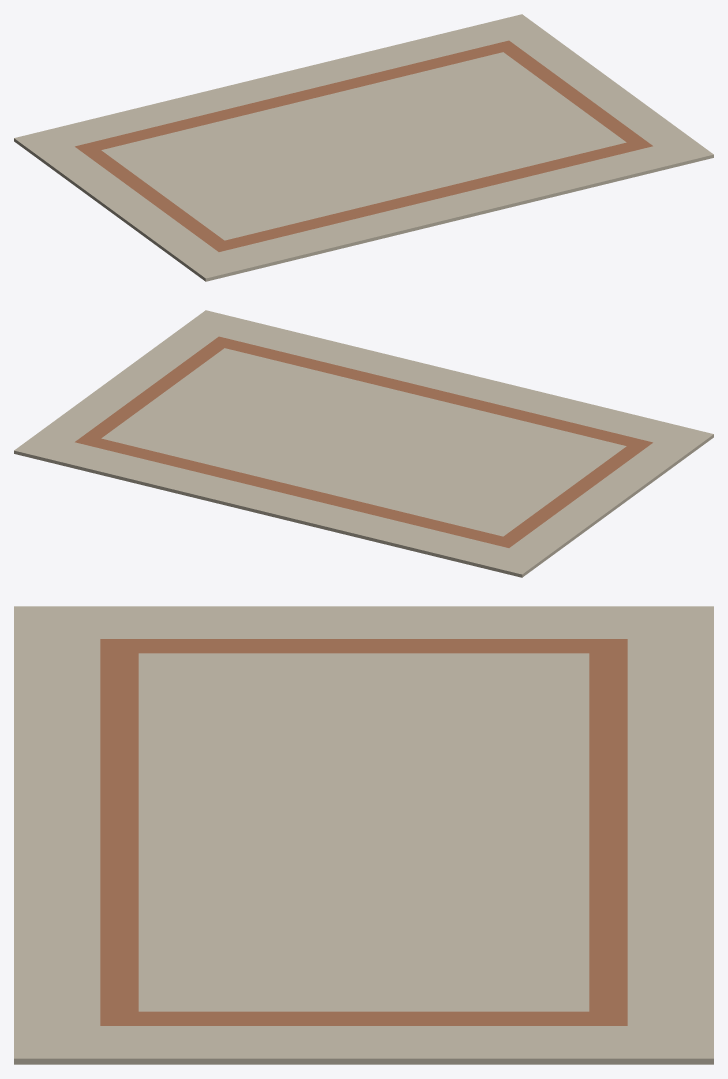
Rendered from rug_large.glb.
3 renders of one model, top to bottom at view 1: azimuth 30°, elevation 25°; view 2: azimuth 150°, elevation 25°; view 3: azimuth 270°, elevation 25°, orthographic. The views are drawn at different scales.
Visible parts, largest first — view 1: rug_large; view 2: rug_large; view 3: rug_large.
Part boxes in pixels (box(x1,y1,x2,y2)): rug_large: box(14, 14, 713, 281); rug_large: box(14, 310, 713, 577); rug_large: box(14, 606, 713, 1064).
Size of the model in its own units: 2.6 by 0.016 by 1.7.
